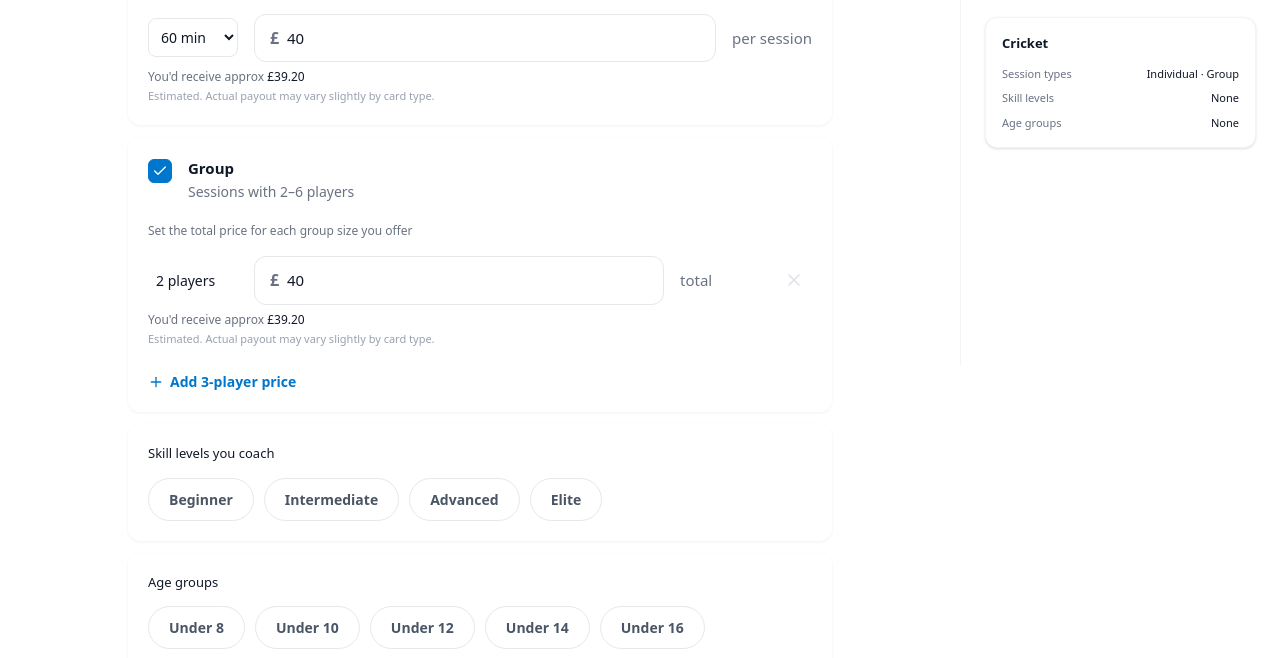
PricingStep — adding tier rows up to the maximum of 6 › offers the next unpriced size each time and hides the link once all sizes have rows
(page scrolled)
Click the button "Add 3-player price". click: [222, 382]
box: [148,371,296,392]
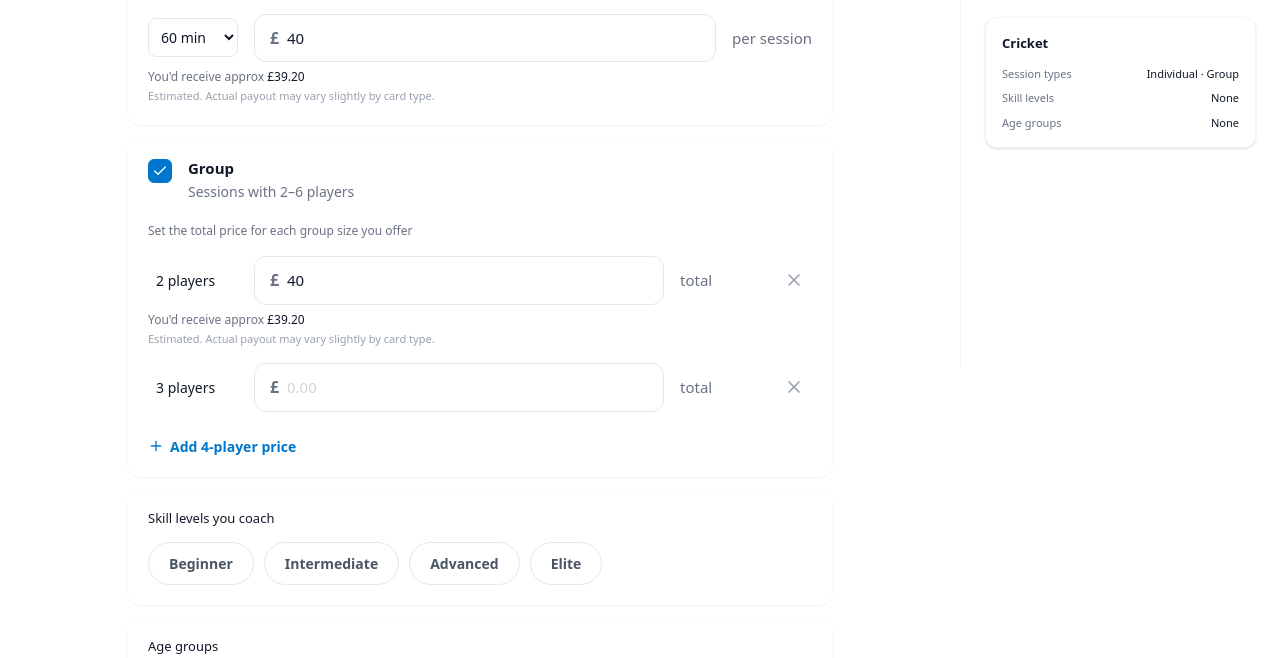
Expected: the text "3 players" is shown, [156,378,215,397]
Click the button "Add 4-player price". click: [222, 446]
box: [148,436,296,456]
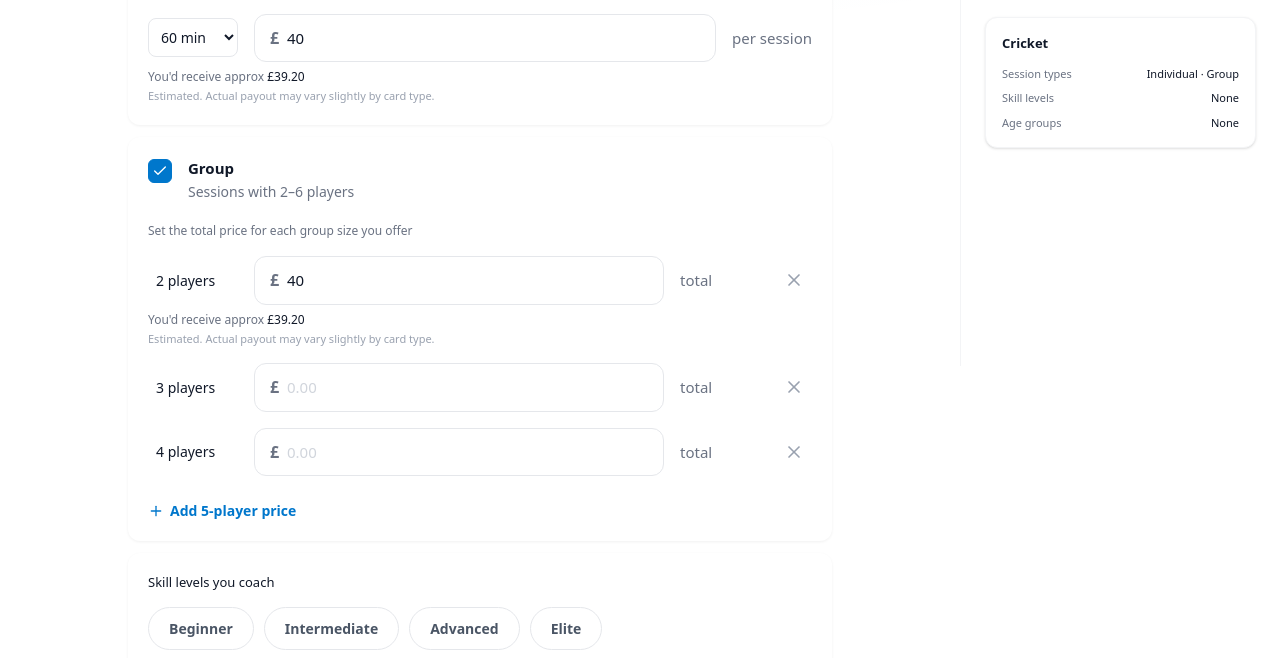
Click the button "Add 5-player price". click: [222, 510]
box: [148,500,296,521]
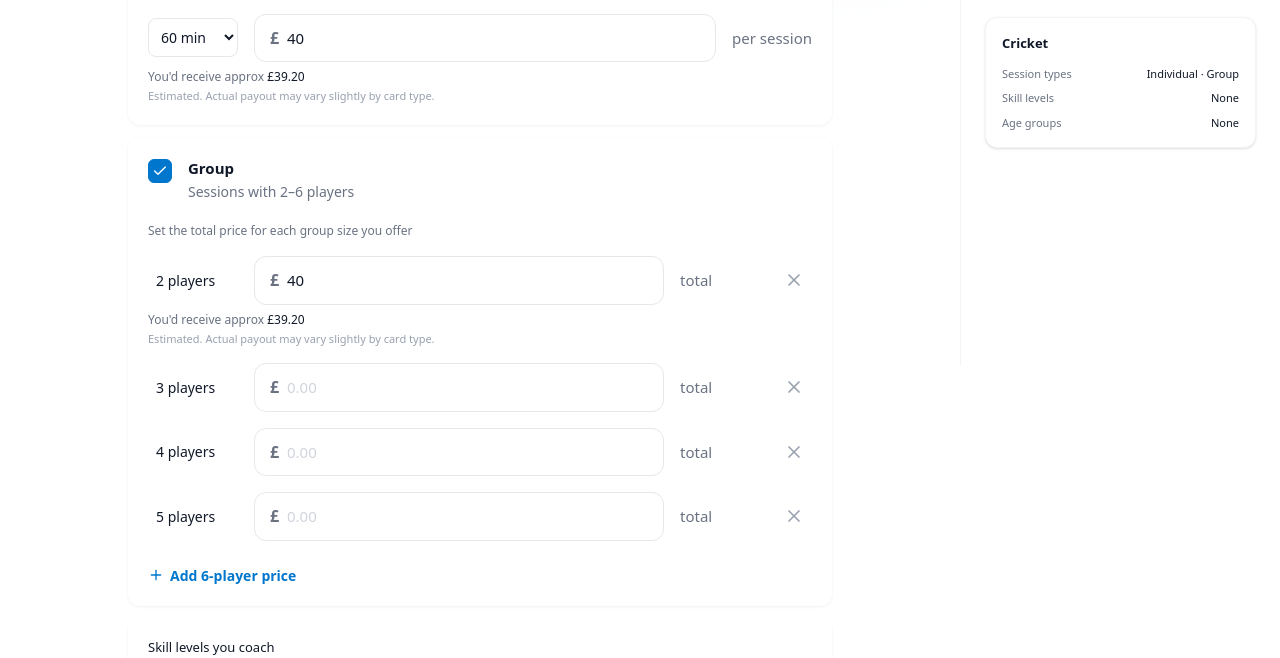
Click the button "Add 6-player price". click: [222, 575]
box: [148,564,296,586]
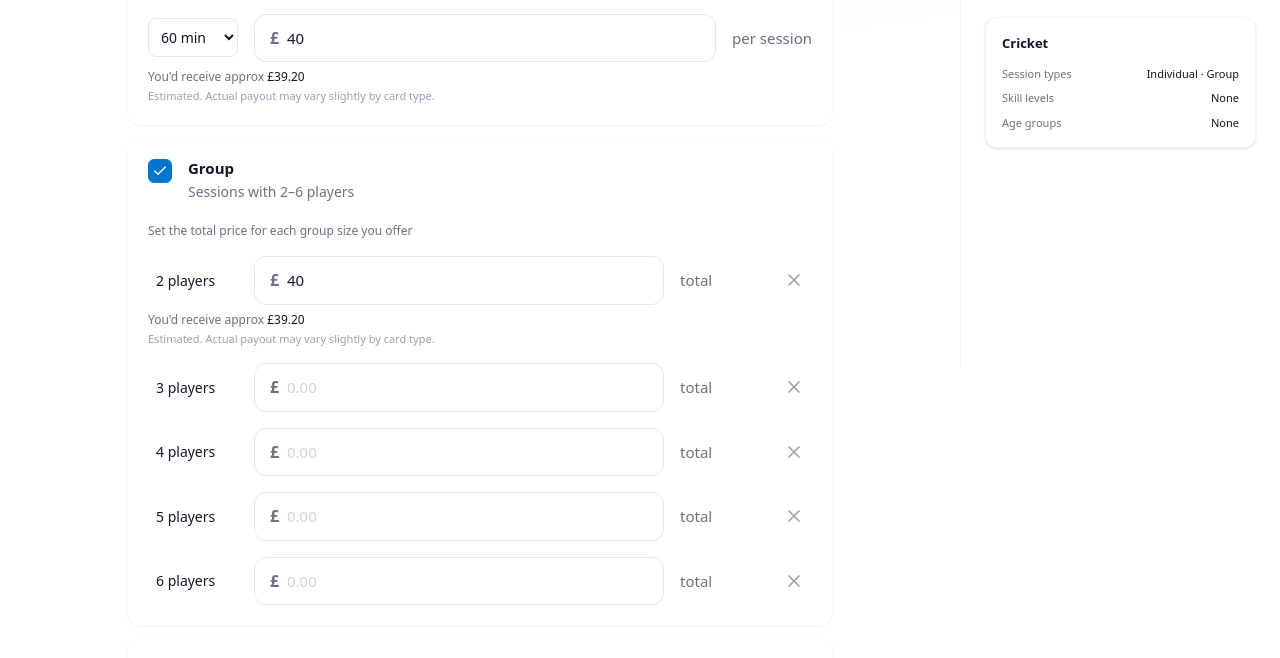
Expected: the text "6 players" is shown, [156,571,215,590]
Expected: the button "Add 6-player price" is gone
